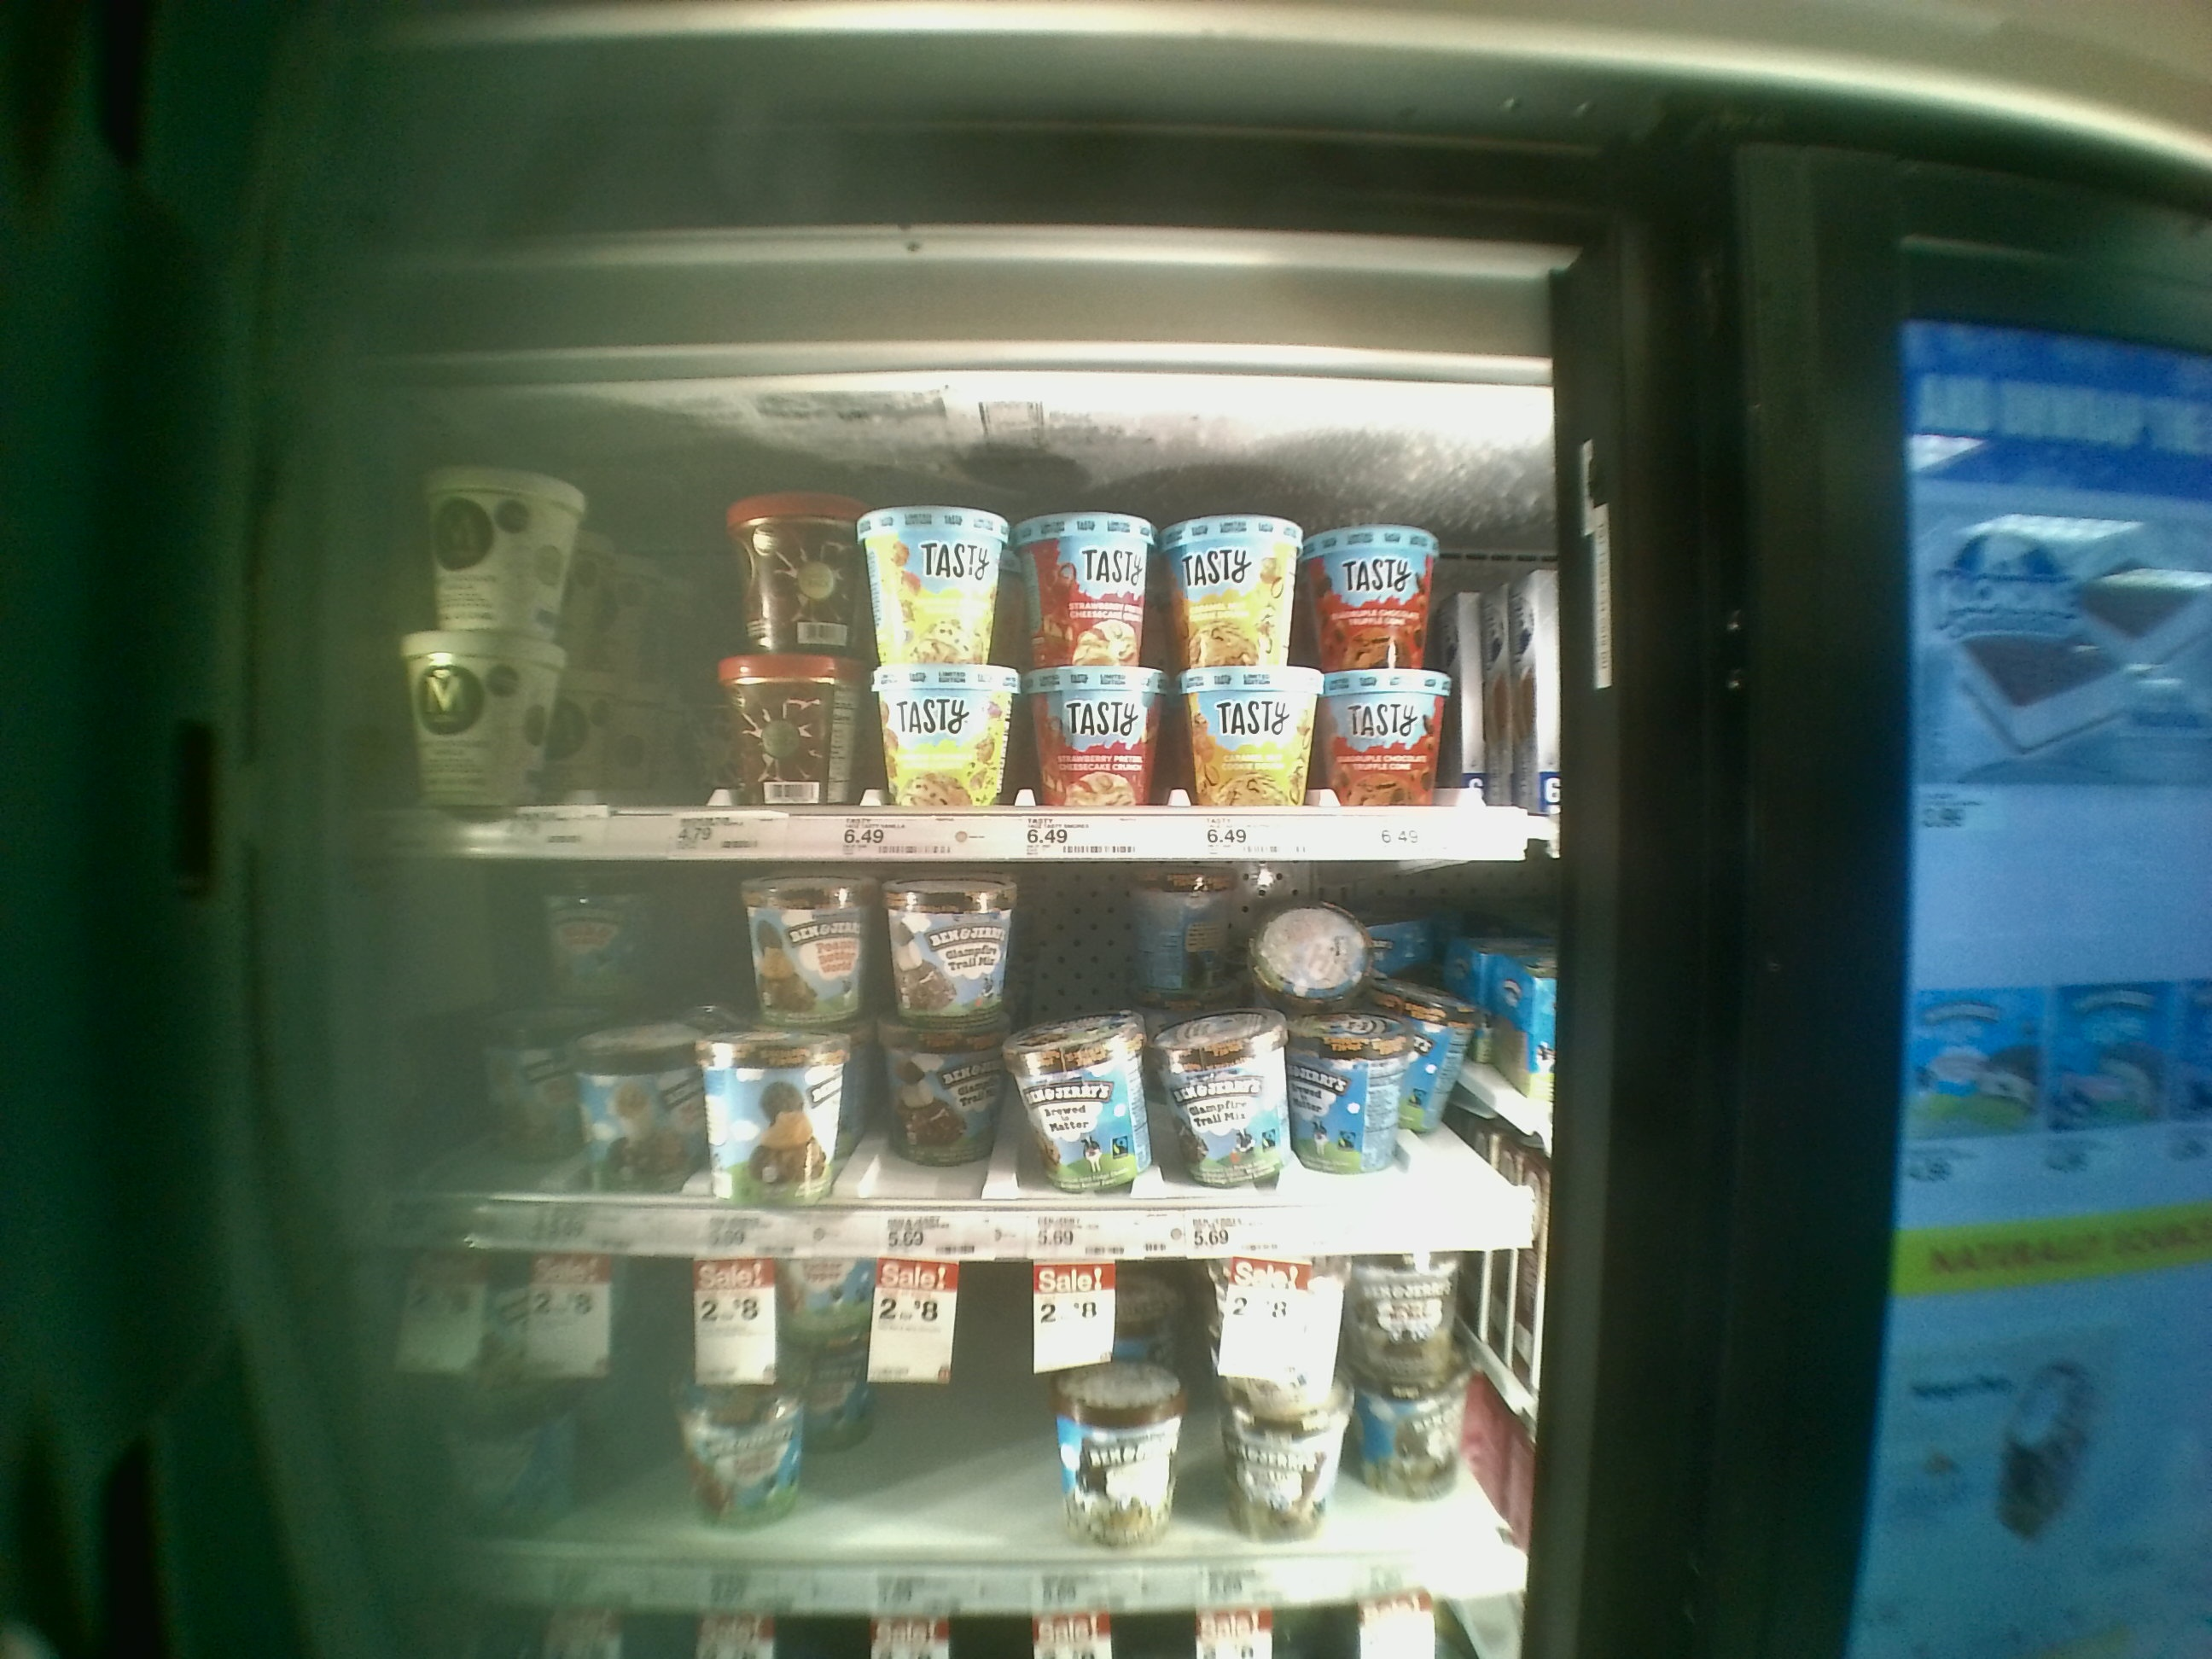shelf: (329, 390, 1575, 859), (324, 870, 1561, 1263), (320, 1260, 1536, 1622)
